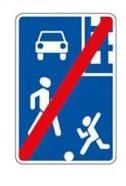road_sign: (15, 13, 120, 165)
